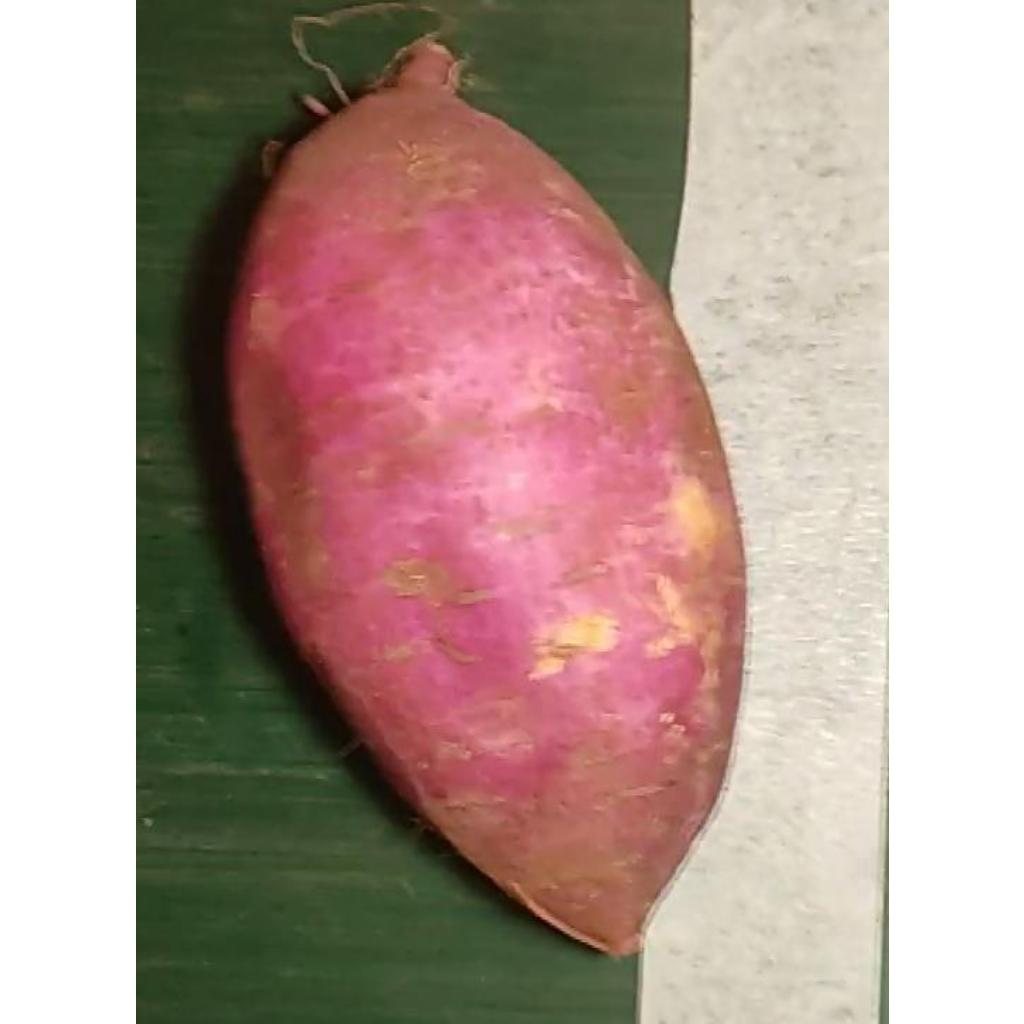Sweet Potato: (225, 38, 747, 961)
